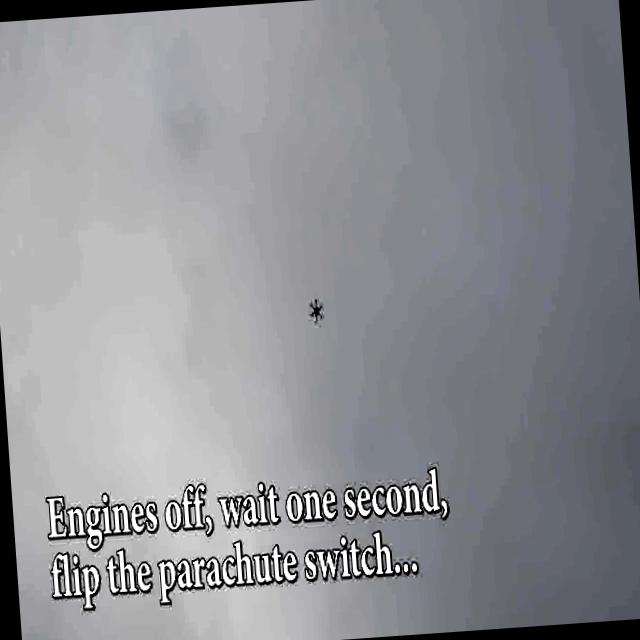drone: (305, 292, 326, 329)
